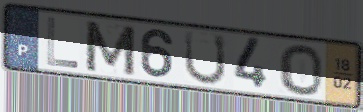4: (232, 35, 273, 94)
6: (139, 27, 177, 81)
L: (45, 15, 81, 71)
M: (83, 19, 138, 78)
O: (277, 43, 325, 98)
U: (182, 29, 228, 87)
